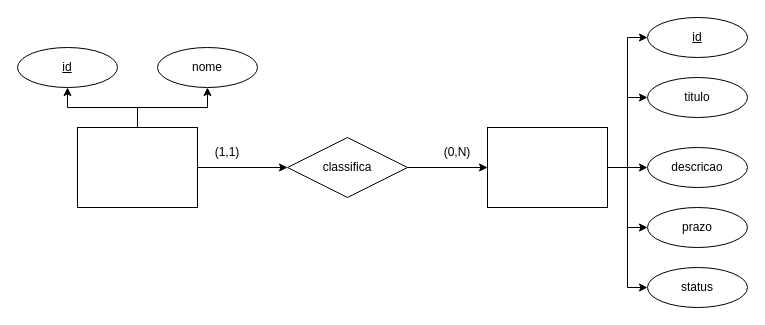
Some shapes in this 765 by 325 pixel diagram are drawn without their labels. The shapes that lost their labels are listed below. From the top down, each one's centre as x and y in pixels, then its label:
point (137, 167): Categoria
point (547, 167): Tarefa
